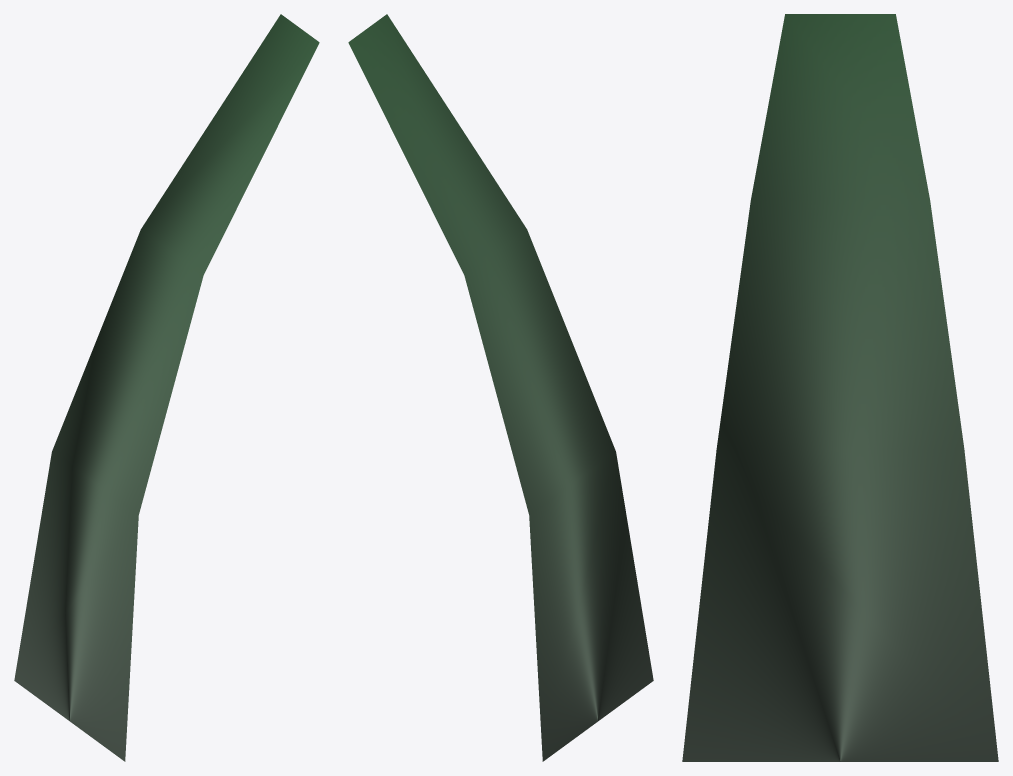
The model's file is Blade_Wild_Wide.glb.
3 renders of one model, left to right at view 1: azimuth 30°, elevation 25°; view 2: azimuth 150°, elevation 25°; view 3: azimuth 270°, elevation 25°, orthographic. The views are drawn at different scales.
Parts seen in each view (by area): view 1: Blade_Wild_Wide; view 2: Blade_Wild_Wide; view 3: Blade_Wild_Wide.
Part boxes in pixels (x1,y1,x2,y2): Blade_Wild_Wide: [14, 14, 319, 761]; Blade_Wild_Wide: [348, 14, 653, 761]; Blade_Wild_Wide: [682, 14, 998, 761].
Bounding box in the file's own units: 0.06 × 0.1584 × 0.05.
